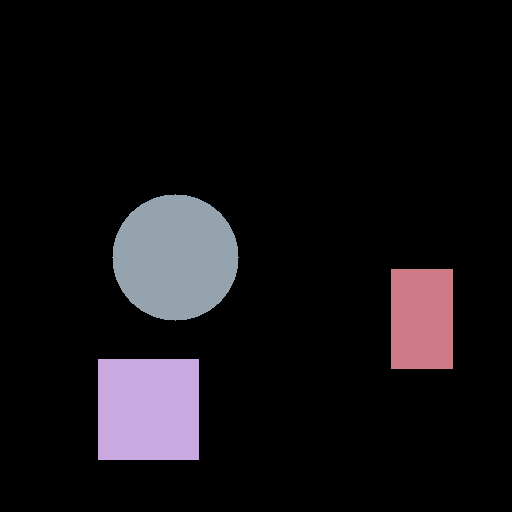circle: (112, 194, 238, 320)
rectangle: (391, 269, 452, 368)
square: (98, 359, 198, 459)
